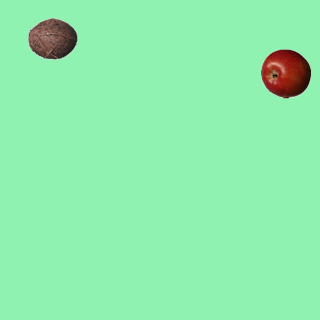Apple Braeburn: (260, 48, 310, 98)
Cocos: (27, 13, 77, 63)
